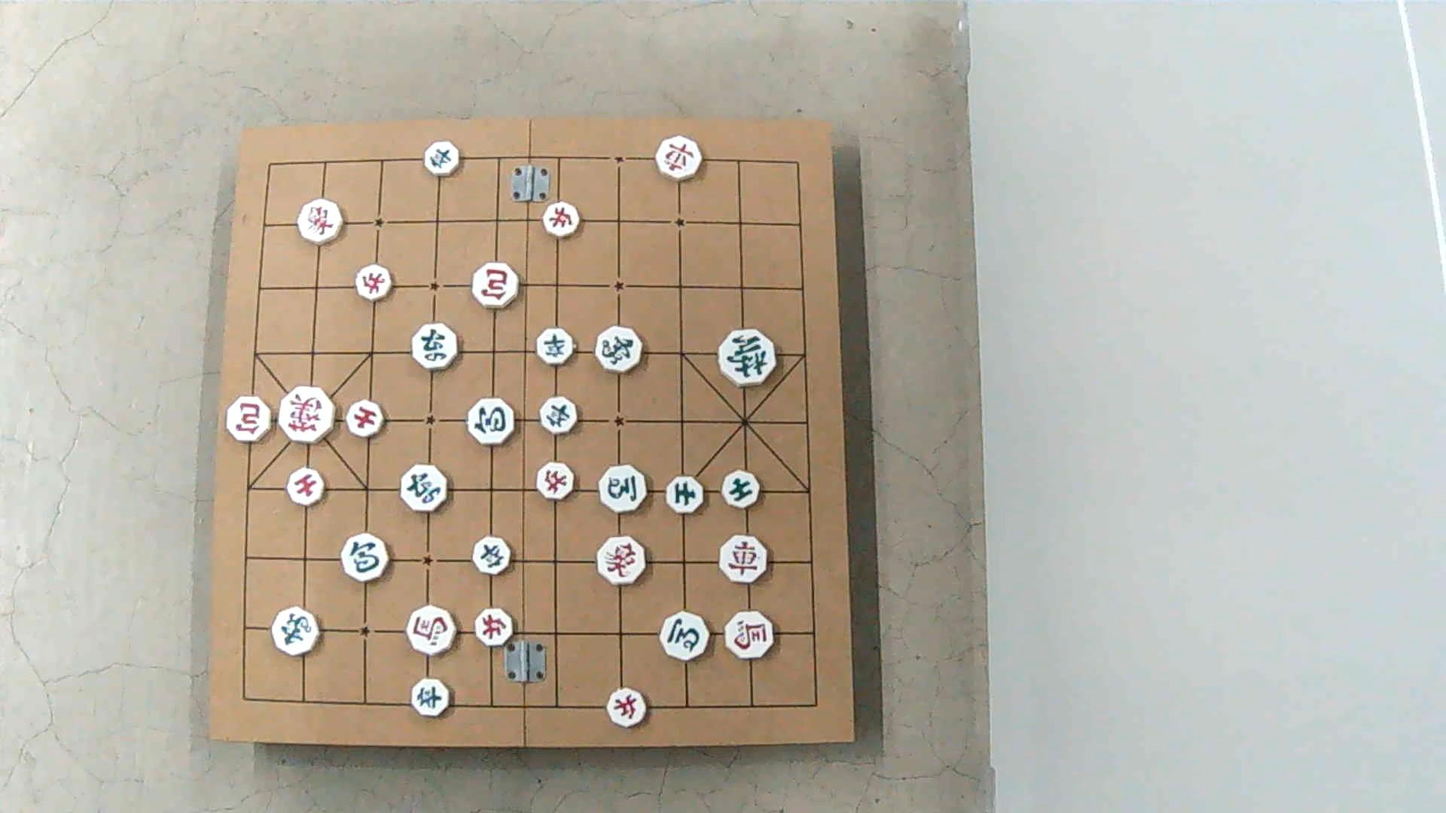cha_green: (410, 324, 456, 371), (401, 464, 447, 511)
cha_red: (719, 534, 767, 583), (654, 136, 700, 180)
jol_green: (409, 678, 447, 716), (474, 537, 512, 574), (541, 396, 578, 434), (538, 329, 575, 366), (426, 140, 460, 175)
jol_red: (608, 689, 647, 727), (535, 462, 573, 499), (475, 610, 513, 647), (541, 202, 578, 238), (357, 266, 393, 303)
ma_green: (659, 611, 709, 660), (599, 464, 647, 512)
ma_red: (407, 607, 456, 656), (725, 611, 773, 659)
po_green: (341, 534, 388, 583), (467, 397, 514, 445)
po_red: (225, 396, 271, 442), (471, 262, 517, 307)
sa_green: (721, 470, 758, 508), (666, 473, 703, 511)
sa_red: (287, 468, 325, 505), (346, 401, 383, 439)
sang_green: (273, 608, 321, 656), (598, 327, 644, 374)
sang_red: (598, 538, 647, 586), (300, 201, 343, 245)
wang_green: (718, 330, 773, 387)
wang_red: (280, 388, 336, 444)
